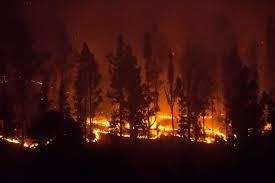fire: (83, 97, 234, 143), (195, 110, 228, 143), (0, 127, 38, 150)
